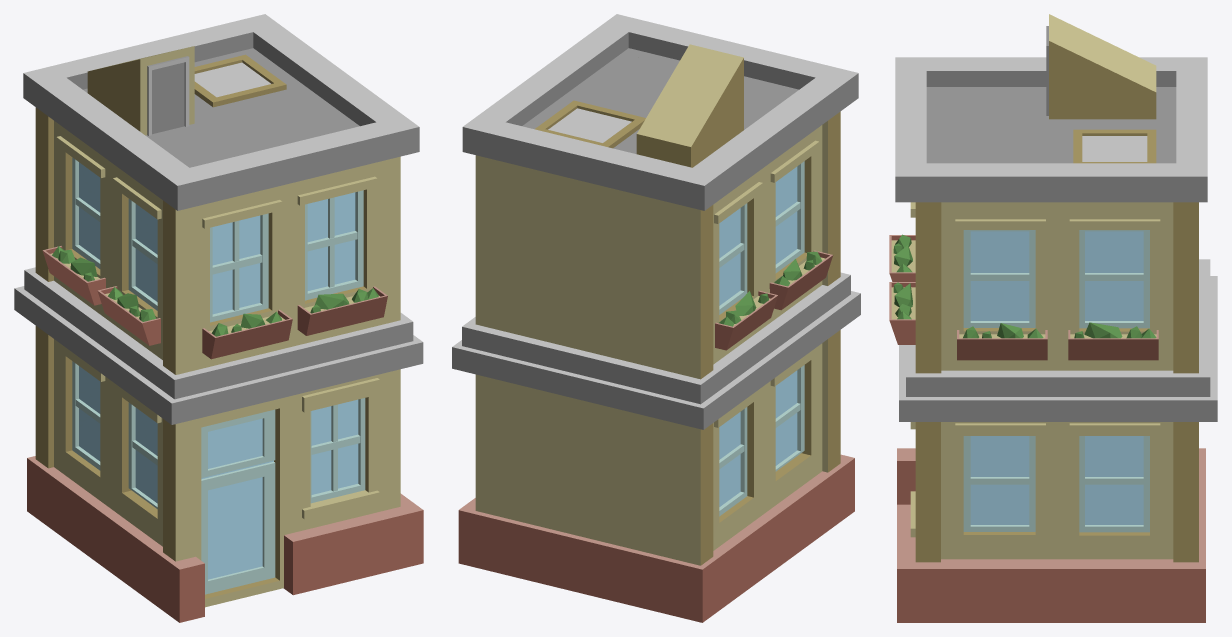
The model's file is house_small_1_009.fbx.
3 renders of one model, left to right at view 1: azimuth 30°, elevation 25°; view 2: azimuth 150°, elevation 25°; view 3: azimuth 270°, elevation 25°, orthographic.
Parts seen in each view (by area): view 1: house_small_1_009; view 2: house_small_1_009; view 3: house_small_1_009.
Part boxes in pixels (x1,y1,x2,y2): house_small_1_009: (14,14,423,622); house_small_1_009: (452,14,860,622); house_small_1_009: (889,14,1217,622).
Size of the model in its own units: 377 by 713 by 419.
